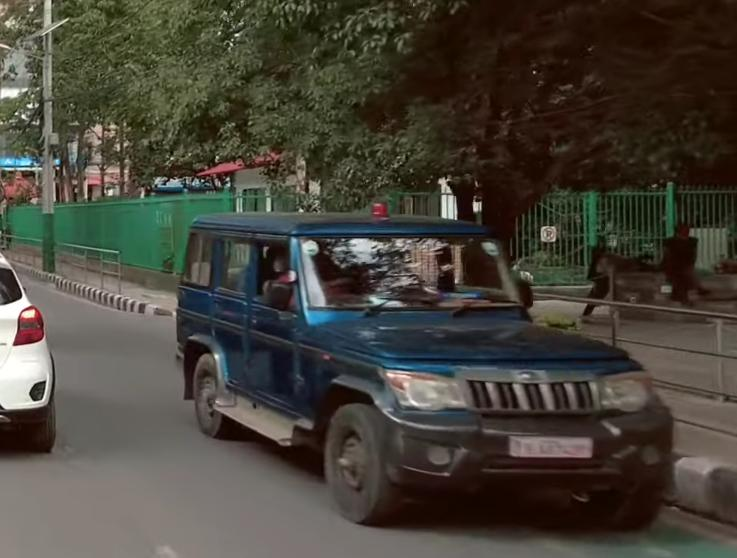police_vehicle: (162, 190, 685, 548)
